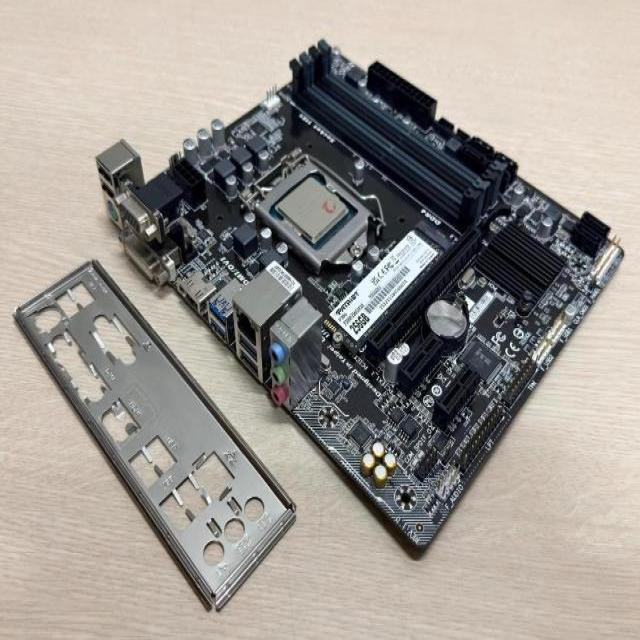CPU: (274, 176, 350, 248)
